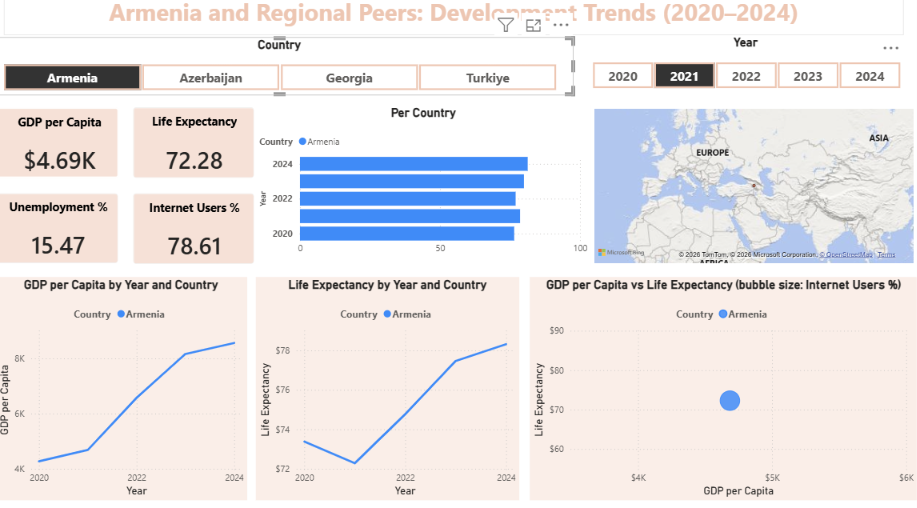

What the dashboard file says about the page in this screenshot:
{"tool":"powerbi","page":{"name":"Page 1","canvas":[1280,720],"ordinal":0},"visuals":[{"type":"slicer","title":"Country","fields":{"Values":["World Bank Country Year.country"]},"box":[0,61.7,808.3,80],"z":0},{"type":"slicer","title":"Year","fields":{"Values":["World Bank Country Year.year"]},"box":[808.3,58.3,471.7,80],"z":1000},{"type":"cardVisual","fields":{"Data":["Key Measure.GDP per Capita"]},"box":[0,141.7,201.7,131.7],"z":2000},{"type":"cardVisual","fields":{"Data":["Key Measure.Life Expectancy"]},"box":[186.7,141.7,200,131.7],"z":3000},{"type":"cardVisual","fields":{"Data":["Key Measure.Unemployment %"]},"box":[0,260,200,130],"z":4000},{"type":"cardVisual","fields":{"Data":["Key Measure.Internet Users %"]},"box":[186.7,260,200,131.7],"z":5000},{"type":"lineChart","fields":{"Y":["Key Measure.GDP per Capita"],"Category":["World Bank Country Year.year"],"Series":["World Bank Country Year.country"]},"box":[13.3,391.7,346.7,306.7],"z":6000},{"type":"lineChart","fields":{"Category":["World Bank Country Year.year"],"Y":["Key Measure.Life Expectancy"],"Series":["World Bank Country Year.country"]},"box":[371.7,391.7,361.7,306.7],"z":7000},{"type":"scatterChart","title":"GDP per Capita vs Life Expectancy (bubble size: Internet Users %)","fields":{"X":["Key Measure.GDP per Capita"],"Y":["Key Measure.Life Expectancy"],"Size":["Key Measure.Internet Users %"],"Series":["World Bank Country Year.country"]},"box":[748.3,391.7,531.7,306.7],"z":8000},{"type":"map","fields":{"Category":["World Bank Country Year.country"],"Size":["Key Measure.Unemployment %"]},"box":[831.7,155,448.3,221.7],"z":9000},{"type":"clusteredBarChart","title":"Per Country","fields":{"Y":["Key Measure.Internet Users %"],"Category":["World Bank Country Year.year"],"Series":["World Bank Country Year.country"]},"box":[371.7,155,460,215],"z":10000},{"type":"textbox","box":[26.7,0,1235,58.3],"z":10001}]}

Visuals, with their boxes in screenshot pixels (x1, y1, x2, y2), scaled from the page's 1280x720 canvas onto the 917x508 screenshot:
"Country" slicer: {"x1": 0, "y1": 44, "x2": 579, "y2": 100}
"Year" slicer: {"x1": 579, "y1": 41, "x2": 916, "y2": 98}
cardVisual - Key Measure.GDP per Capita: {"x1": 0, "y1": 100, "x2": 144, "y2": 193}
cardVisual - Key Measure.Life Expectancy: {"x1": 134, "y1": 100, "x2": 277, "y2": 193}
cardVisual - Key Measure.Unemployment %: {"x1": 0, "y1": 183, "x2": 143, "y2": 275}
cardVisual - Key Measure.Internet Users %: {"x1": 134, "y1": 183, "x2": 277, "y2": 276}
lineChart - Key Measure.GDP per Capita x World Bank Country Year.year: {"x1": 10, "y1": 276, "x2": 258, "y2": 493}
lineChart - World Bank Country Year.year x Key Measure.Life Expectancy: {"x1": 266, "y1": 276, "x2": 525, "y2": 493}
"GDP per Capita vs Life Expectancy (bubble size: Internet Users %)" scatterChart: {"x1": 536, "y1": 276, "x2": 916, "y2": 493}
map - World Bank Country Year.country x Key Measure.Unemployment %: {"x1": 596, "y1": 109, "x2": 916, "y2": 266}
"Per Country" clusteredBarChart: {"x1": 266, "y1": 109, "x2": 596, "y2": 261}
textbox: {"x1": 19, "y1": 0, "x2": 904, "y2": 41}
